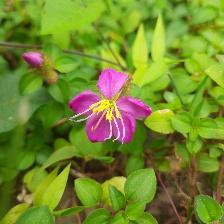malabar melastome: (69, 67, 155, 147), (21, 48, 52, 74)
